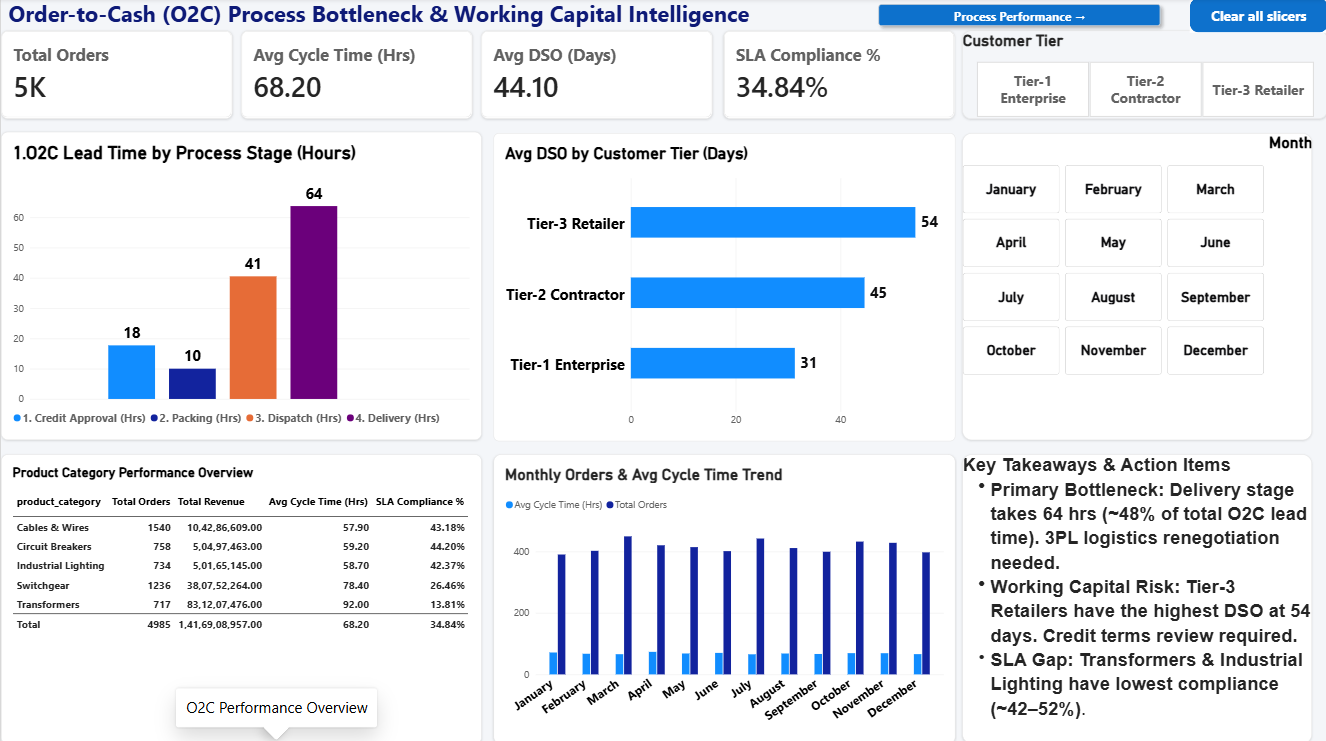

Layout of this report page (visuals, bound fields, positions):
{"tool":"powerbi","page":{"name":"O2C Performance Overview","canvas":[1920,1080],"ordinal":0},"visuals":[{"type":"textbox","box":[10.3,0,1095,47.3],"z":0},{"type":"cardVisual","fields":{"Data":["_measure.Total Orders"]},"box":[0,47.3,335.5,127.6],"z":1000},{"type":"cardVisual","fields":{"Data":["_measure.Avg DSO (Days)"]},"box":[695.7,47.3,335.5,127.6],"z":2000},{"type":"cardVisual","fields":{"Data":["_measure.SLA Compliance %"]},"box":[1045.6,47.3,335.5,127.6],"z":3000},{"type":"cardVisual","fields":{"Data":["_measure.Avg Cycle Time (Hrs)"]},"box":[347.9,47.3,335.5,127.6],"z":4000},{"type":"clusteredColumnChart","title":"1.O2C Lead Time by Process Stage (Hours)","fields":{"Y":["_measure.1. Credit Approval (Hrs)","_measure.2. Packing (Hrs)","_measure.3. Dispatch (Hrs)","_measure.4. Delivery (Hrs)"]},"box":[0,193.5,695.7,446.7],"z":5000},{"type":"clusteredBarChart","title":"Avg DSO by Customer Tier (Days)","fields":{"Category":["cleaned_o2c_orders.customer_tier"],"Y":["_measure.Avg DSO (Days)"]},"box":[712.2,195.5,669,446.7],"z":6000},{"type":"tableEx","title":"Product Category Performance Overview","fields":{"Values":["cleaned_o2c_orders.product_category","_measure.Total Orders","_measure.Total Revenue","_measure.Avg Cycle Time (Hrs)","_measure.SLA Compliance %"]},"box":[0,660.7,695.7,419.9],"z":7000},{"type":"lineClusteredColumnComboChart","title":"Monthly Orders & Avg Cycle Time Trend","fields":{"Category":["cleaned_o2c_orders.order_placed_ts.Variation.Date Hierarchy.Year","cleaned_o2c_orders.order_placed_ts.Variation.Date Hierarchy.Month"],"Y":["_measure.Avg Cycle Time (Hrs)","_measure.Total Orders"]},"box":[712.2,660.7,669,419.9],"z":7001},{"type":"slicer","title":"Customer Tier","fields":{"Values":["cleaned_o2c_orders.customer_tier"]},"box":[1391.4,47.3,529,127.6],"z":7002},{"type":"advancedSlicerVisual","fields":{"Values":["cleaned_o2c_orders.order_placed_ts.Variation.Date Hierarchy.Month"]},"box":[1391.4,195.5,506.3,444.6],"z":7003},{"type":"actionButton","box":[1720.8,0,200,50],"z":7004},{"type":"textbox","box":[1391,661,506,419],"z":7005},{"type":"actionButton","box":[1261.8,0,426.1,49.4],"z":7006}]}

Visuals, with their boxes in screenshot pixels (x1, y1, x2, y2), scaled from the page's 1920x1080 canvas onto the 1326x741 screenshot:
textbox: [7,0,763,32]
cardVisual - _measure.Total Orders: [0,32,232,120]
cardVisual - _measure.Avg DSO (Days): [480,32,712,120]
cardVisual - _measure.SLA Compliance %: [722,32,954,120]
cardVisual - _measure.Avg Cycle Time (Hrs): [240,32,472,120]
"1.O2C Lead Time by Process Stage (Hours)" clusteredColumnChart: [0,133,480,439]
"Avg DSO by Customer Tier (Days)" clusteredBarChart: [492,134,954,441]
"Product Category Performance Overview" tableEx: [0,453,480,740]
"Monthly Orders & Avg Cycle Time Trend" lineClusteredColumnComboChart: [492,453,954,740]
"Customer Tier" slicer: [961,32,1325,120]
advancedSlicerVisual - cleaned_o2c_orders.order_placed_ts.Variation.Date Hierarchy.Month: [961,134,1311,439]
actionButton: [1188,0,1325,34]
textbox: [961,454,1310,740]
actionButton: [871,0,1166,34]
